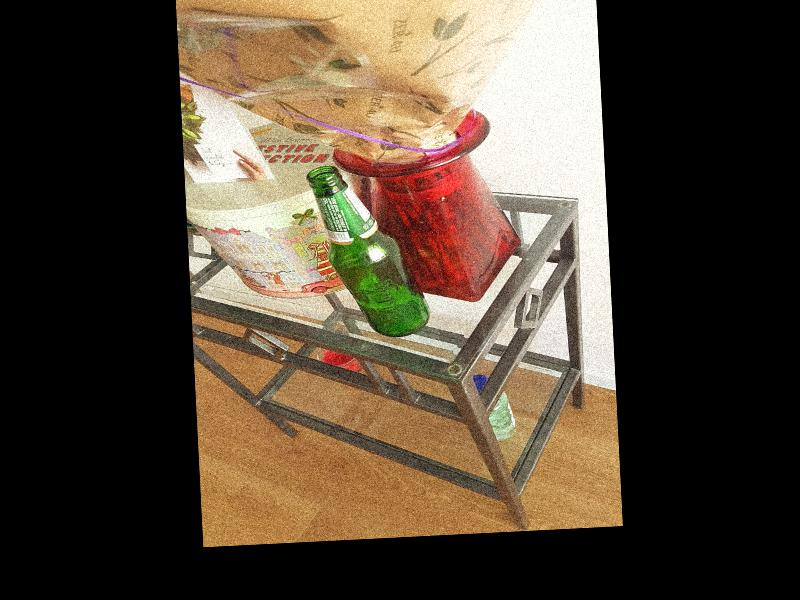Beer: (308, 161, 431, 340)
